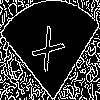X: (25, 24, 66, 83)
